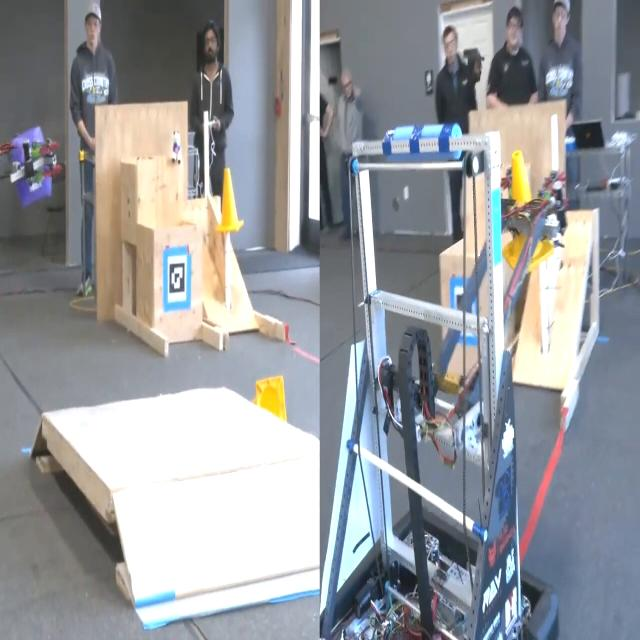frc_cone: (502, 157, 556, 273), (212, 172, 242, 240), (256, 379, 288, 422)
frc_cube: (13, 130, 49, 191)
